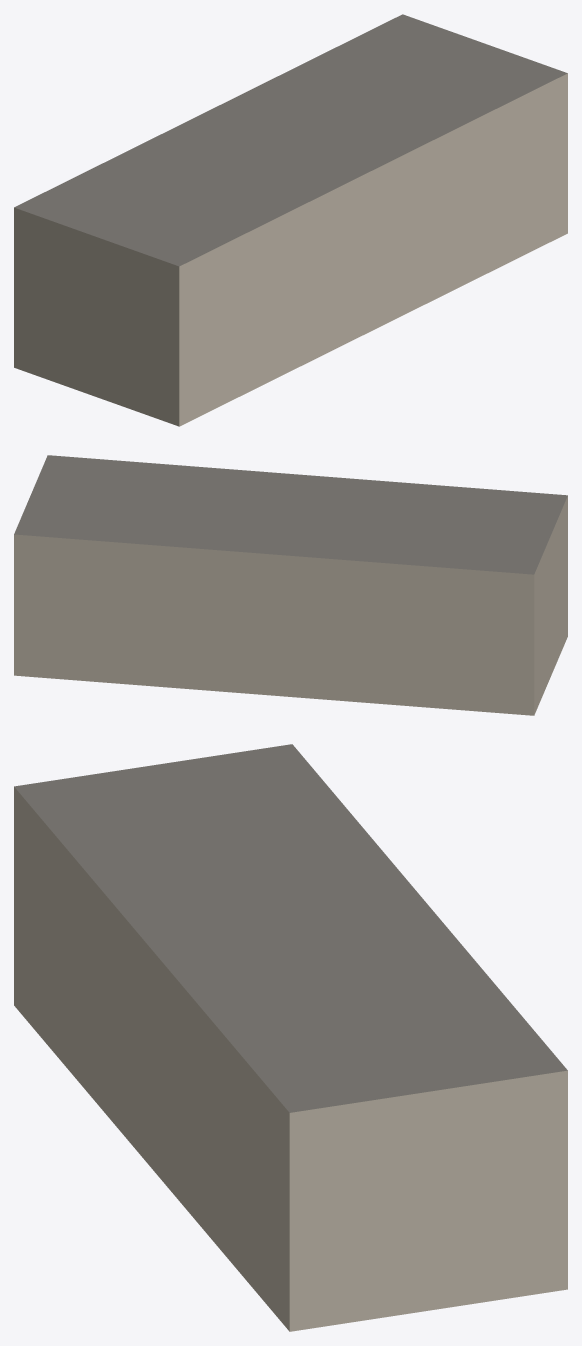
The picture shows the model from 3 angles, top to bottom: view 1: azimuth 30°, elevation 25°; view 2: azimuth 150°, elevation 25°; view 3: azimuth 270°, elevation 25°; orthographic projection. The views are drawn at different scales.
Parts seen in each view (by area): view 1: HP-w1512530032; view 2: HP-w1512530032; view 3: HP-w1512530032.
Part boxes in pixels (box(x1,y1,x2,y2)): HP-w1512530032: box(14, 14, 567, 426); HP-w1512530032: box(14, 455, 567, 715); HP-w1512530032: box(14, 744, 567, 1331).
Bounding box in the file's own units: 65.03 × 18 × 41.28.
